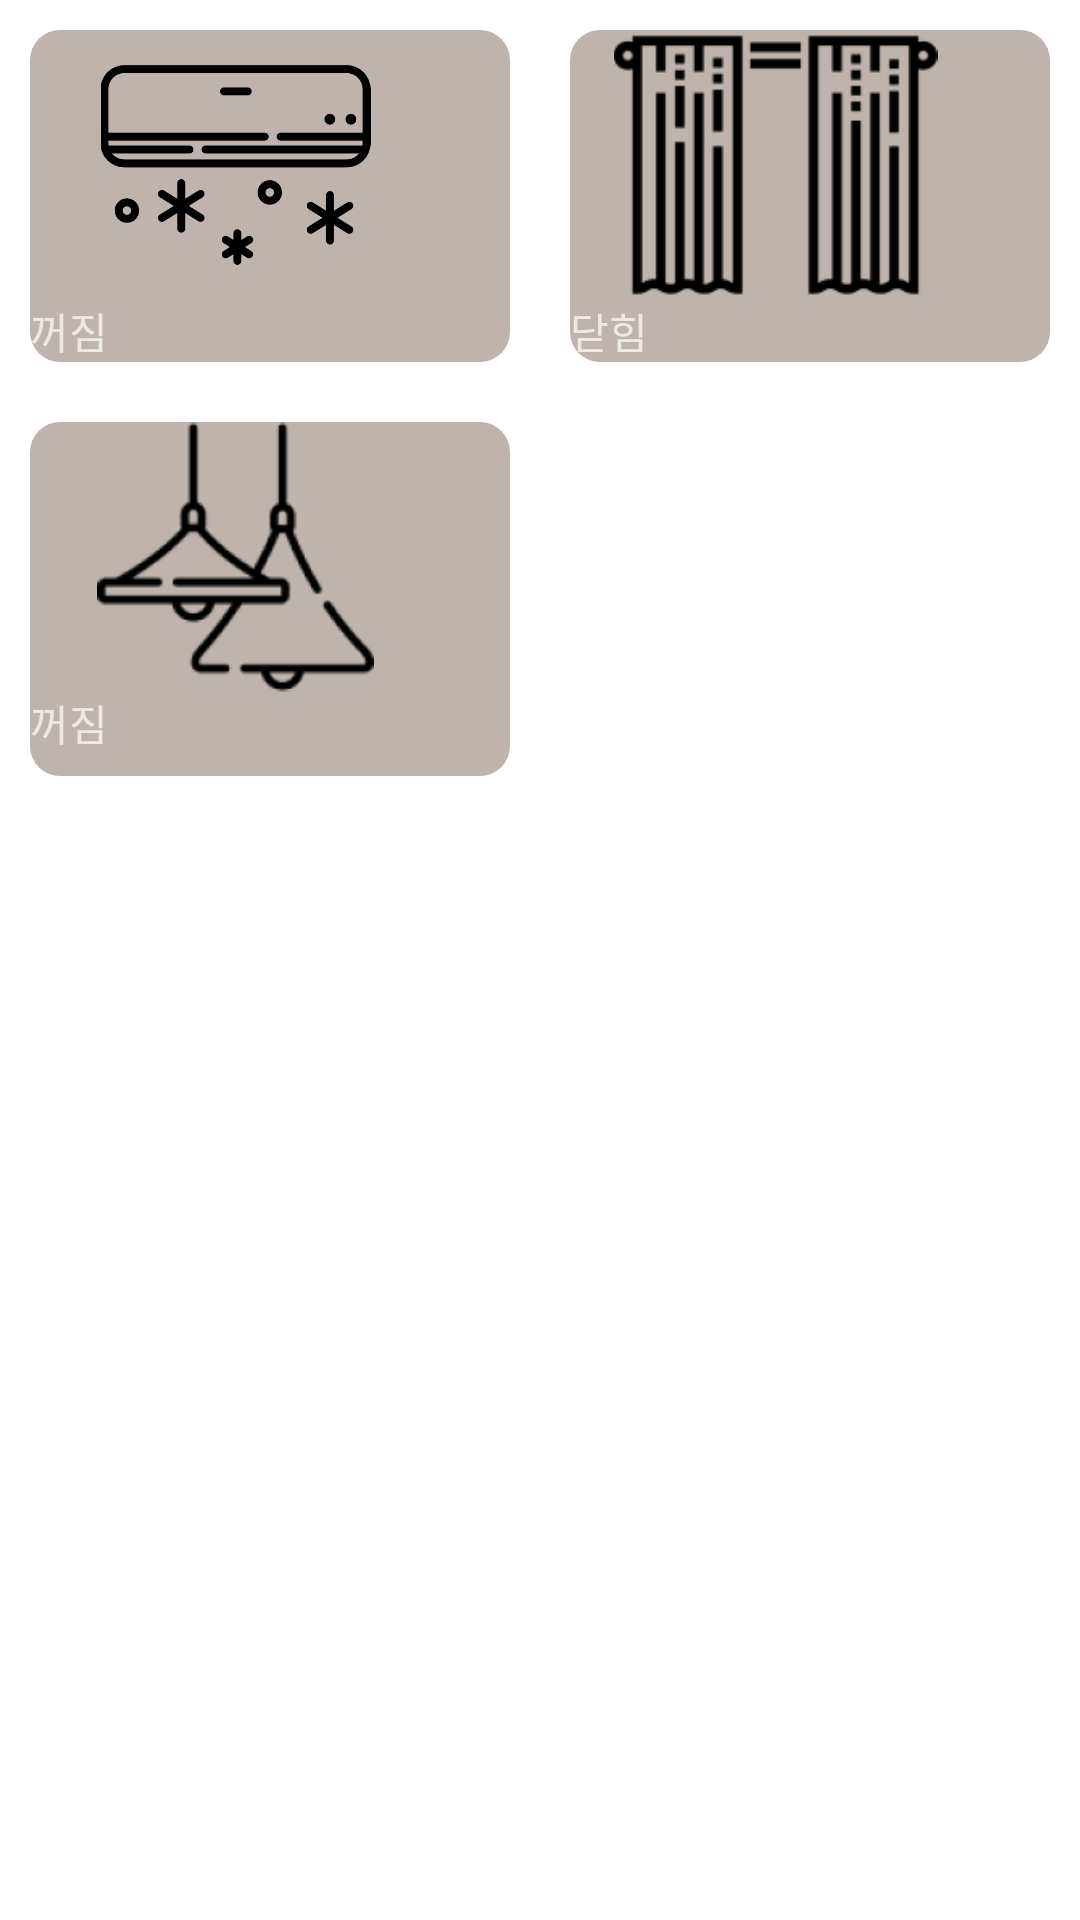

Where icons sit on this 1080 x 1920 app screen, as rect(x1, y1, x2, y2):
airconoff: rect(101, 65, 371, 265)
curtain: rect(614, 35, 938, 295)
